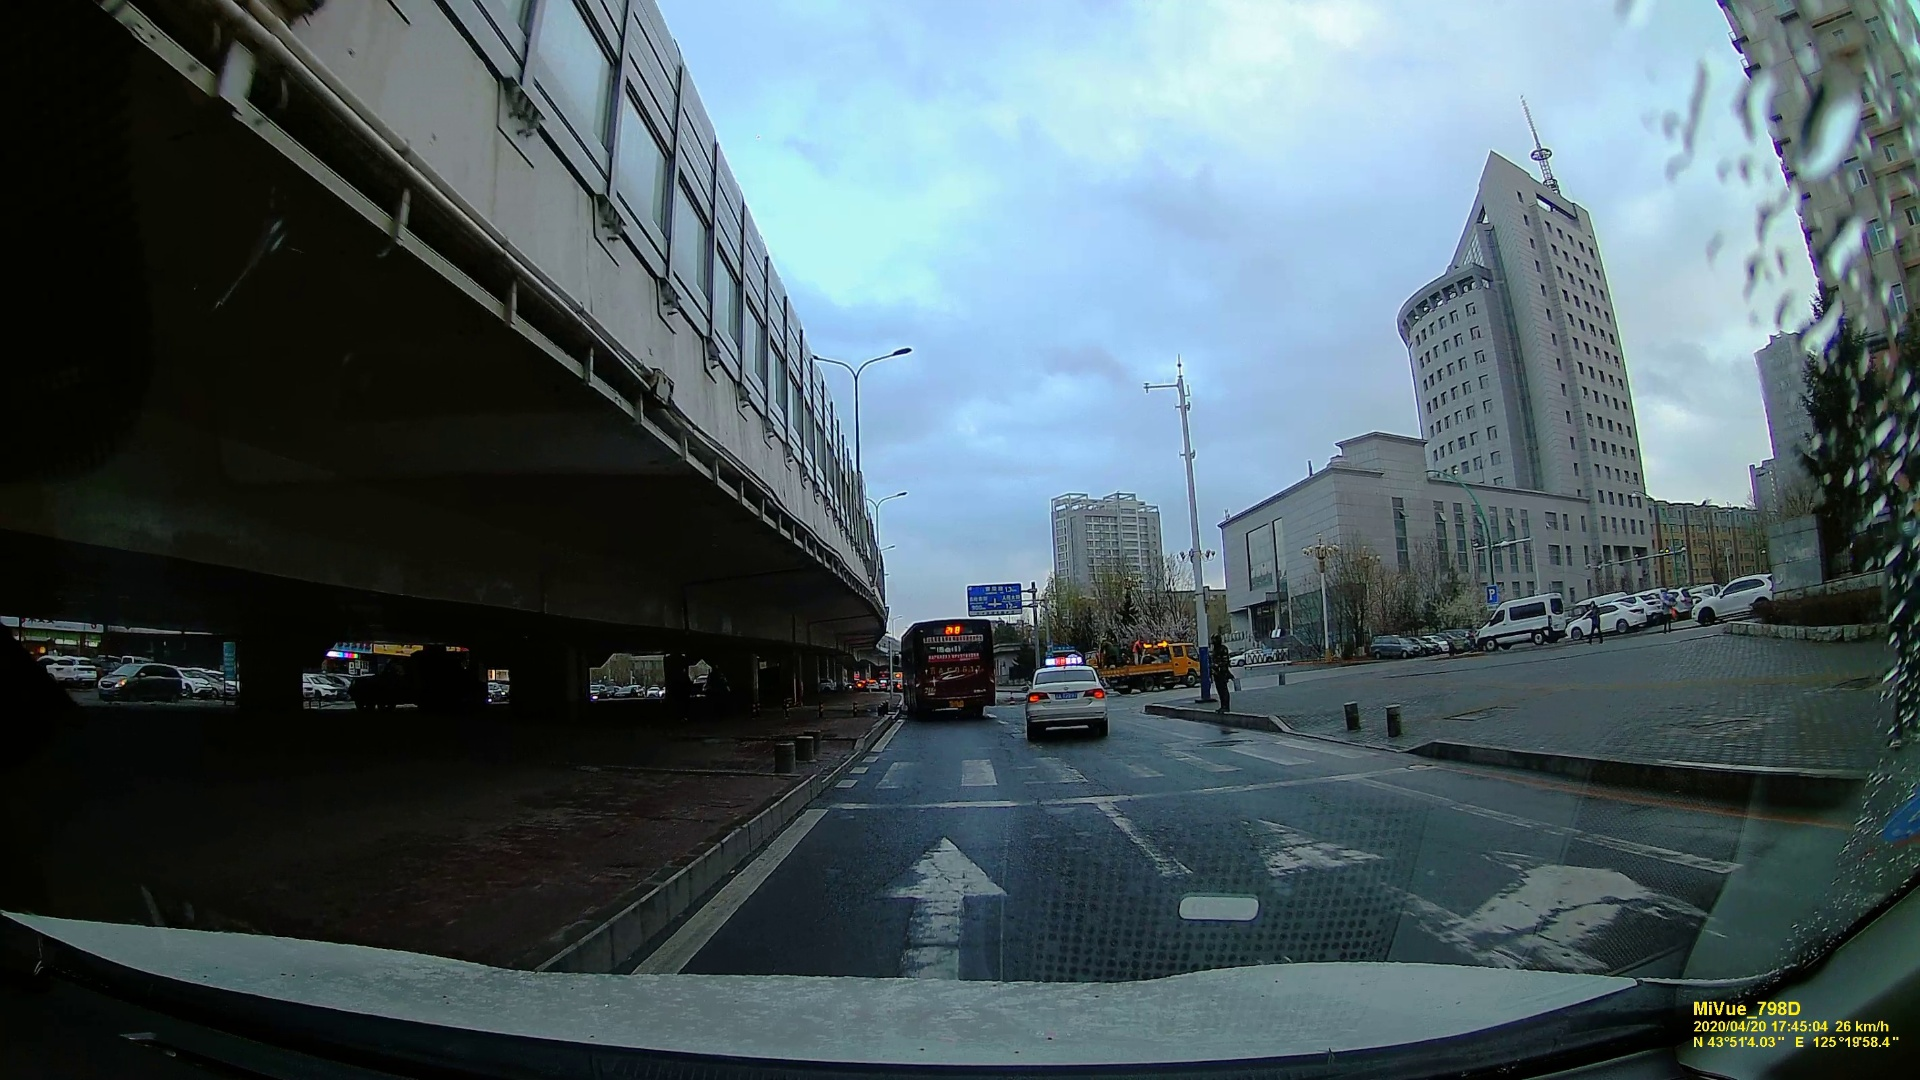bus: (900, 622, 998, 721), (1579, 598, 1601, 646), (1657, 586, 1673, 631)
minibus: (1479, 595, 1573, 649)
person: (1208, 630, 1234, 711)
traffic_sign: (968, 585, 1022, 612)
vehicle: (1023, 654, 1114, 741), (91, 656, 191, 697)
